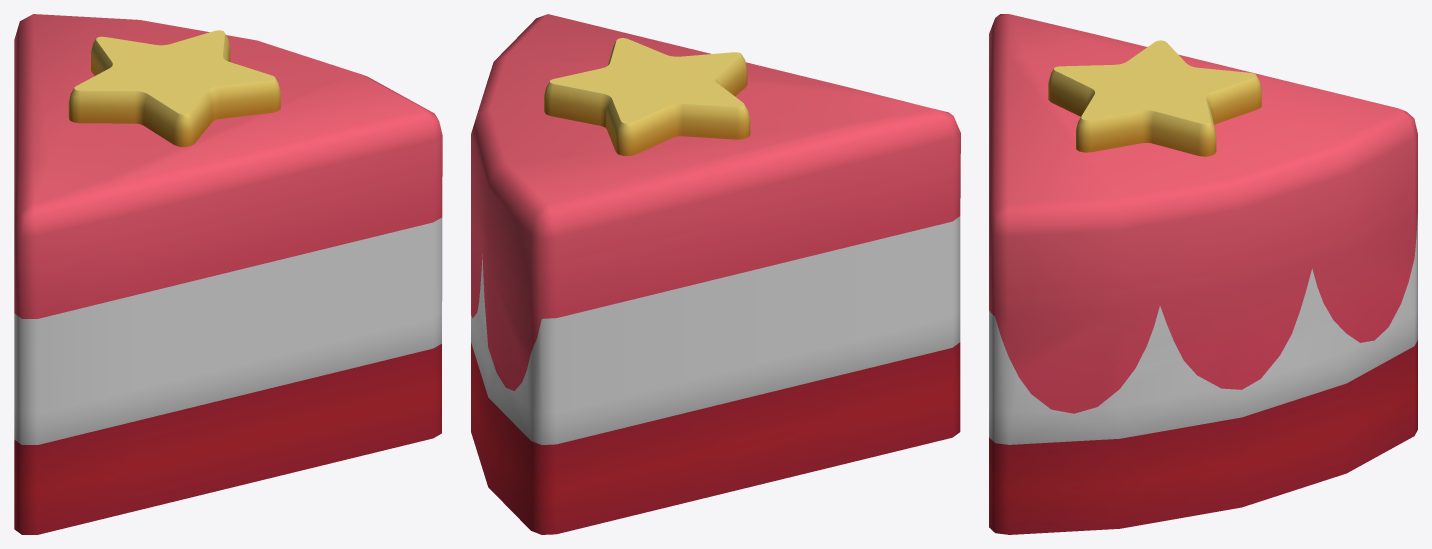
File: cake12_slice.FBX
3 renders of one model, left to right at view 1: azimuth 30°, elevation 25°; view 2: azimuth 150°, elevation 25°; view 3: azimuth 270°, elevation 25°, orthographic.
Parts seen in each view (by area): view 1: cake12_slice; view 2: cake12_slice; view 3: cake12_slice.
Part boxes in pixels (x1=…): cake12_slice: x1=14, y1=14, x2=442, y2=534; cake12_slice: x1=471, y1=14, x2=960, y2=534; cake12_slice: x1=989, y1=14, x2=1417, y2=534.
Bounding box in the file's own units: 0.00956 × 0.00761 × 0.00836.
